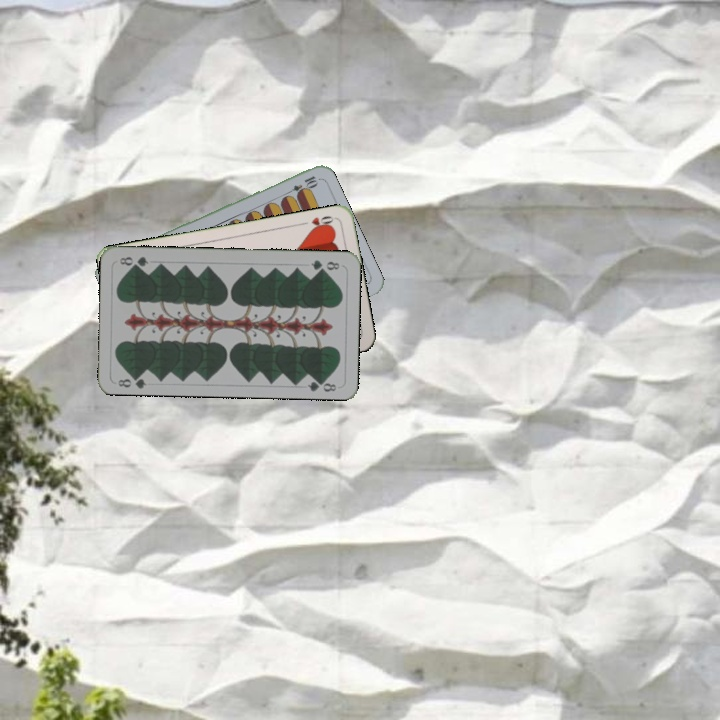E10: (281, 172, 320, 199)
G8: (114, 370, 149, 390), (307, 256, 342, 274)
HO: (297, 212, 337, 233)
